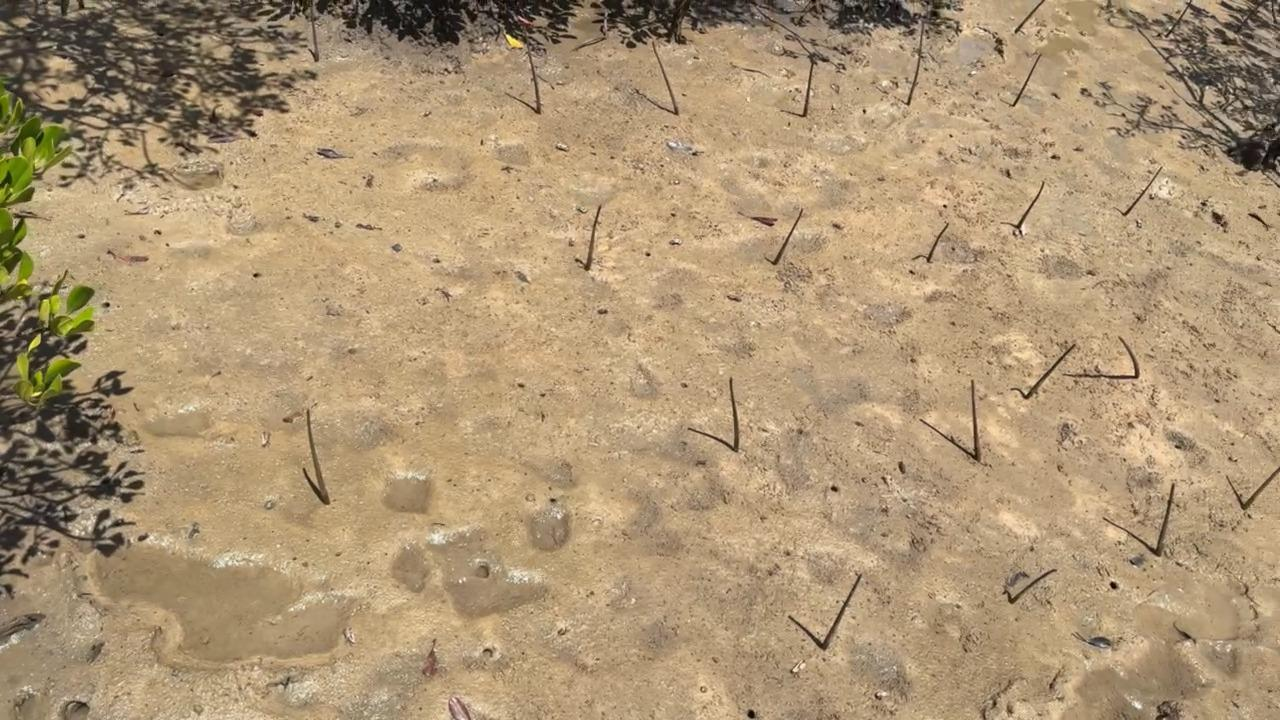Tree: (822, 574, 862, 649), (1025, 345, 1076, 398), (306, 410, 330, 505), (651, 40, 678, 115), (773, 207, 804, 266), (1125, 167, 1163, 215), (1243, 467, 1280, 511), (1154, 484, 1176, 557), (1010, 570, 1056, 603), (1013, 54, 1042, 106), (524, 32, 542, 114), (907, 23, 925, 105), (1017, 182, 1045, 227), (1165, 0, 1194, 37), (586, 206, 602, 271), (1015, 0, 1045, 32), (926, 223, 950, 261), (1118, 336, 1140, 377), (971, 382, 982, 461), (729, 377, 739, 451), (802, 61, 815, 117), (310, 6, 319, 63)
